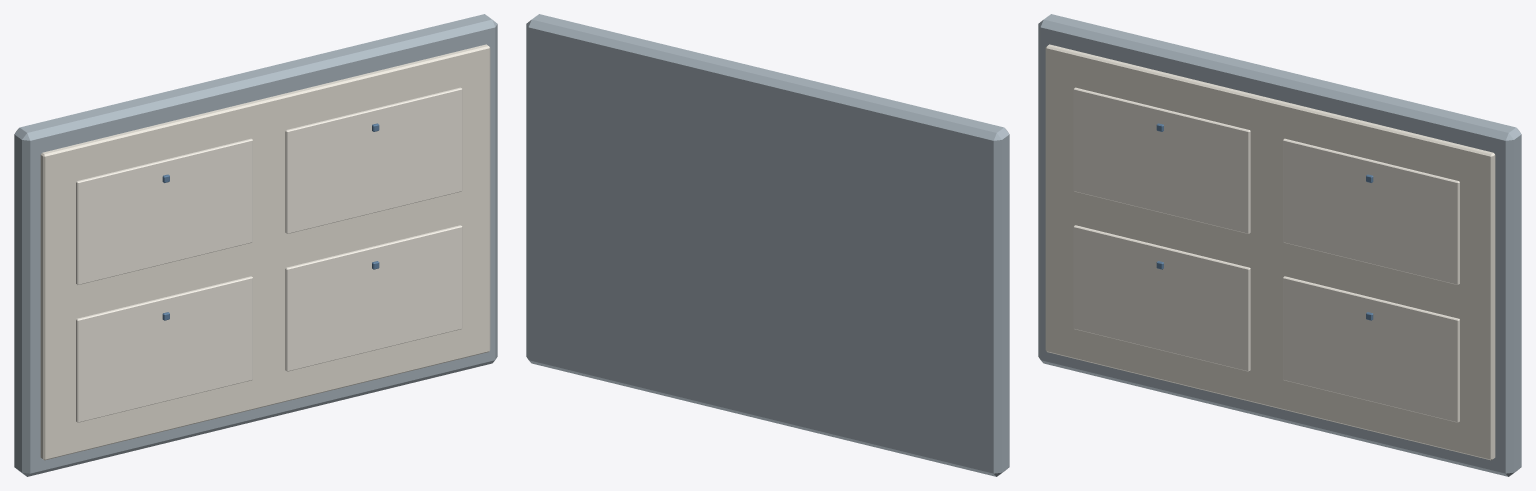
File: school_06.glb
3 views of the same model, side by side, from view 1: azimuth 30°, elevation 25°; view 2: azimuth 150°, elevation 25°; view 3: azimuth 330°, elevation 25° (orthographic).
Visible parts, largest first — view 1: SchedulePaper (×4), DisplaySurface, DisplayFrame; view 2: DisplayFrame; view 3: SchedulePaper (×4), DisplaySurface, DisplayFrame.
Part boxes in pixels (x1=…): SchedulePaper (×4): x1=76, y1=87, x2=462, y2=422; DisplaySurface: x1=40, y1=44, x2=490, y2=460; DisplayFrame: x1=14, y1=14, x2=497, y2=476; DisplayFrame: x1=526, y1=14, x2=1009, y2=476; SchedulePaper (×4): x1=1073, y1=87, x2=1459, y2=422; DisplaySurface: x1=1045, y1=44, x2=1495, y2=460; DisplayFrame: x1=1038, y1=14, x2=1521, y2=476.
Size of the model in its own units: 1.1 by 0.76 by 0.0915.
